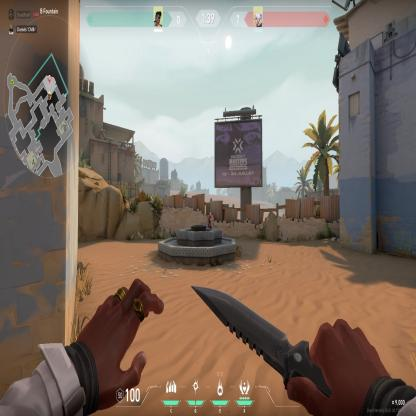enemy: (207, 212, 212, 228)
